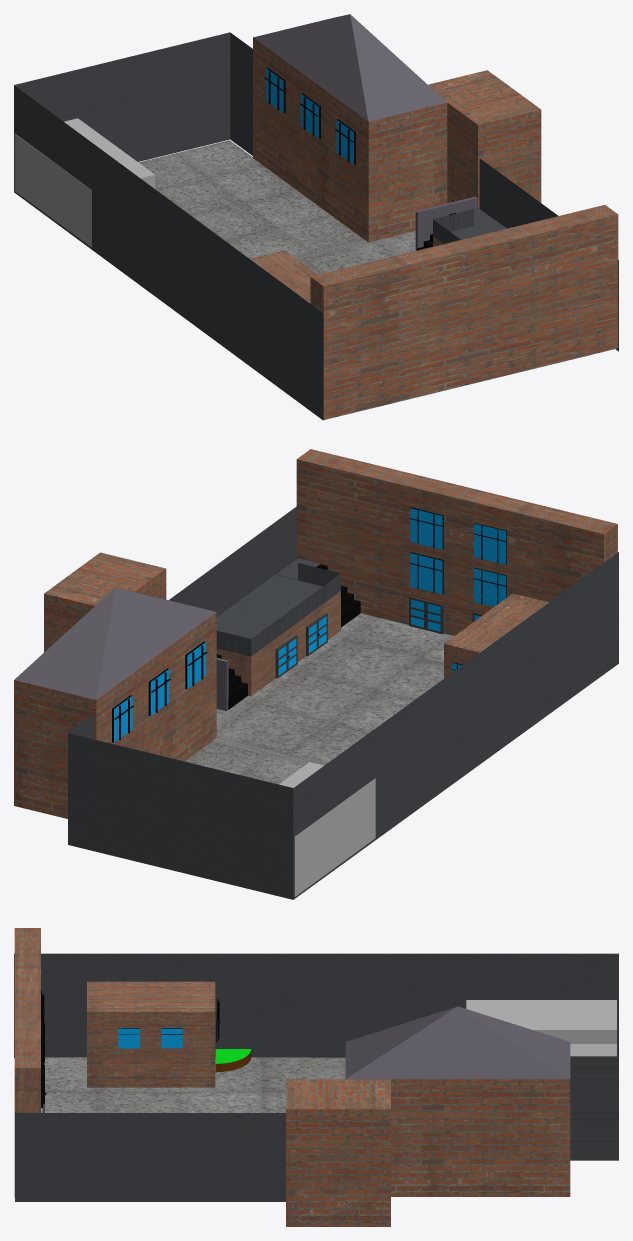
Rendered from mapa final.fbx.
The picture shows the model from 3 angles, top to bottom: view 1: azimuth 30°, elevation 25°; view 2: azimuth 150°, elevation 25°; view 3: azimuth 270°, elevation 25°; orthographic projection. The views are drawn at different scales.
Parts seen in each view (by area): view 1: pared.001, edificio montañeses, edificio libertador, suelo, DAT, pared, ventanas libertador, labs, comedor, Cube; view 2: pared.001, edificio libertador, edificio montañeses, suelo, comedor, pared, DAT, ventanas monta (×2), labs, ventanas libertador, puerta.001, puerta.003 (+2 smaller); view 3: edificio libertador, pared.001, pared, labs, suelo, DAT, edificio montañeses, ventanas taller frontal, plantas.
Boxes of the visible parts, x1=… form: pared.001: x1=14, y1=32, x2=323, y2=420; edificio montañeses: x1=310, y1=205, x2=618, y2=419; edificio libertador: x1=253, y1=14, x2=541, y2=242; suelo: x1=138, y1=140, x2=609, y2=417; DAT: x1=14, y1=118, x2=155, y2=247; pared: x1=479, y1=158, x2=618, y2=351; ventanas libertador: x1=264, y1=67, x2=355, y2=164; labs: x1=250, y1=250, x2=317, y2=303; comedor: x1=433, y1=209, x2=506, y2=246; Cube: x1=415, y1=196, x2=477, y2=250; pared.001: x1=68, y1=552, x2=618, y2=899; edificio libertador: x1=14, y1=552, x2=216, y2=818; edificio montañeses: x1=296, y1=449, x2=617, y2=635; suelo: x1=184, y1=613, x2=453, y2=784; comedor: x1=216, y1=563, x2=340, y2=696; pared: x1=169, y1=506, x2=296, y2=616; DAT: x1=279, y1=762, x2=375, y2=896; ventanas monta (×2): x1=409, y1=507, x2=506, y2=606; labs: x1=444, y1=593, x2=548, y2=678; ventanas libertador: x1=112, y1=641, x2=207, y2=742; puerta.001: x1=409, y1=596, x2=443, y2=634; puerta.003: x1=275, y1=635, x2=297, y2=678; edificio libertador: x1=286, y1=1006, x2=570, y2=1226; pared.001: x1=14, y1=953, x2=618, y2=1160; pared: x1=15, y1=1113, x2=285, y2=1201; labs: x1=87, y1=981, x2=215, y2=1087; suelo: x1=41, y1=1057, x2=345, y2=1112; DAT: x1=466, y1=1000, x2=616, y2=1056; edificio montañeses: x1=14, y1=928, x2=40, y2=1197; ventanas taller frontal: x1=118, y1=1028, x2=182, y2=1048; plantas: x1=215, y1=1049, x2=251, y2=1072.
Bounding box in the file's own units: 1130 × 552 × 1702.
11 materials, 3 textured.
